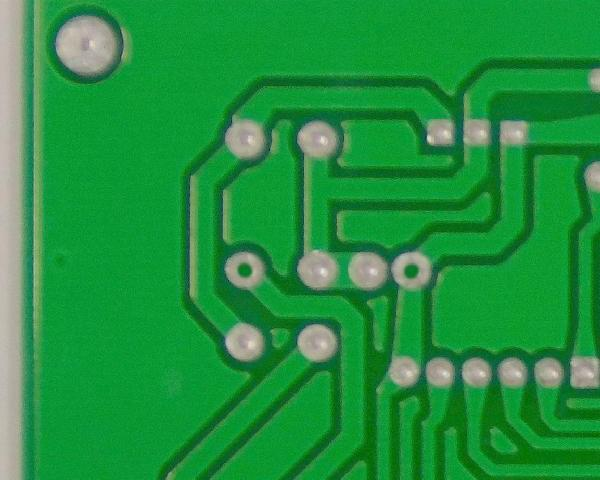missing hole: (221, 246, 270, 295), (388, 248, 436, 293)
